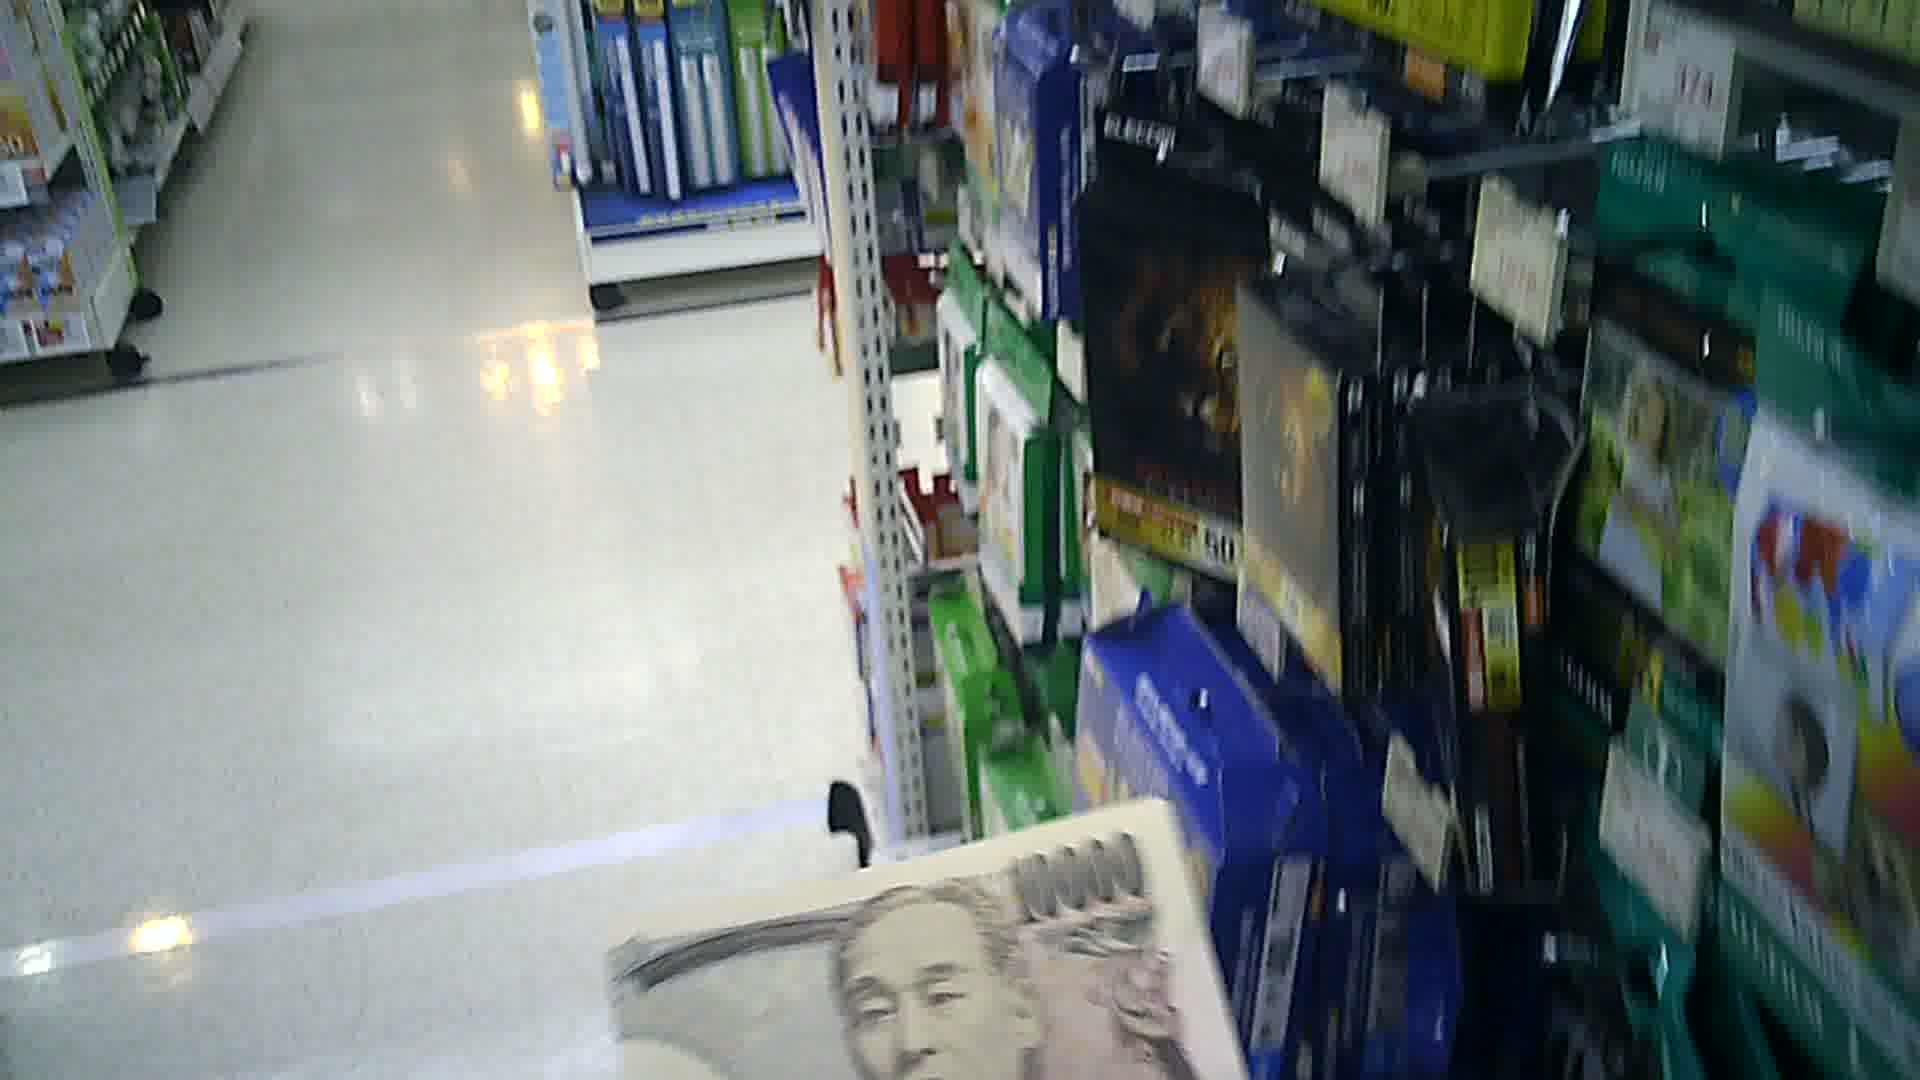10,000 Yen: (593, 811, 1278, 1065)
